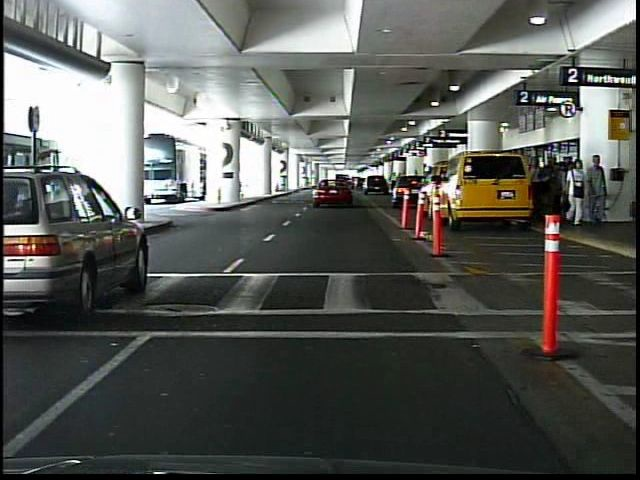person: (586, 155, 613, 226), (565, 156, 586, 227)
